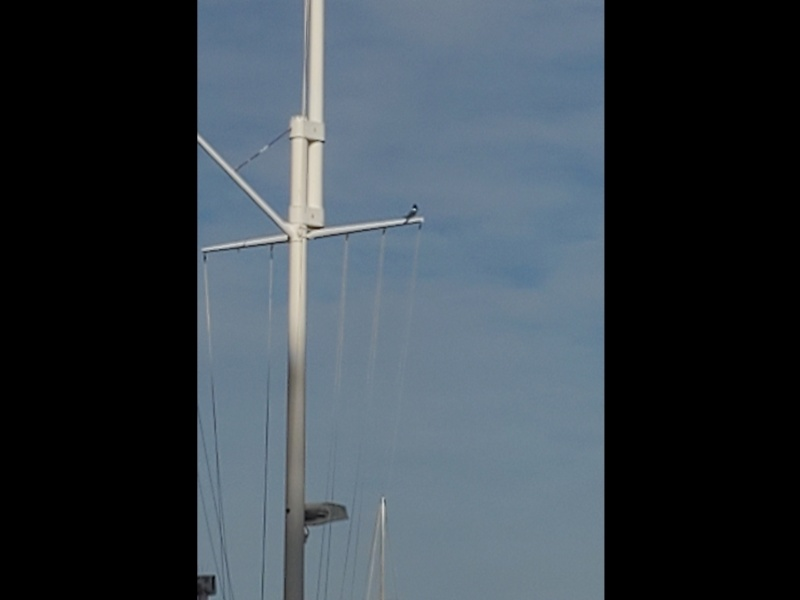kingfisher: (397, 201, 422, 226)
